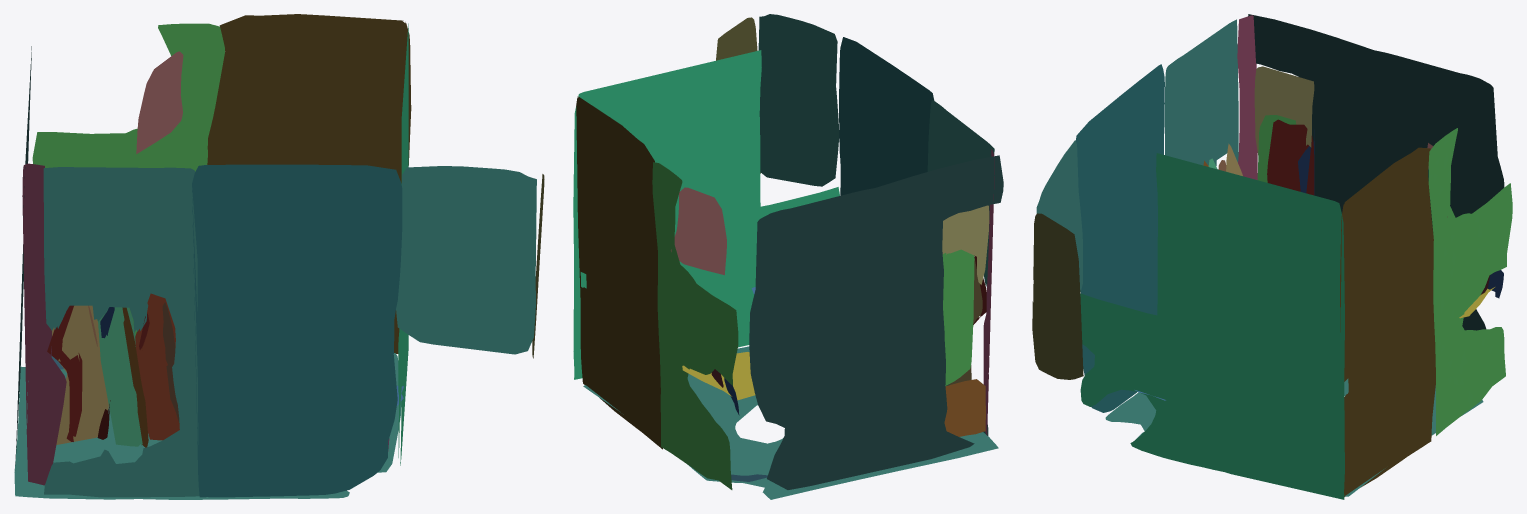
File: Ours-7bc286c1b6.glb
3 renders of one model, left to right at view 1: azimuth 30°, elevation 25°; view 2: azimuth 150°, elevation 25°; view 3: azimuth 270°, elevation 25°, orthographic. The views are drawn at different scales.
Visible parts, largest first — view 1: piecewise-unnamed-scene2007_00-lean; view 2: piecewise-unnamed-scene2007_00-lean; view 3: piecewise-unnamed-scene2007_00-lean.
Part boxes in pixels (x1,y1,x2,y2): piecewise-unnamed-scene2007_00-lean: [14, 14, 544, 499]; piecewise-unnamed-scene2007_00-lean: [573, 14, 1003, 499]; piecewise-unnamed-scene2007_00-lean: [1032, 14, 1512, 499].
Size of the model in its own units: 3.25 by 2.4 by 3.4.
